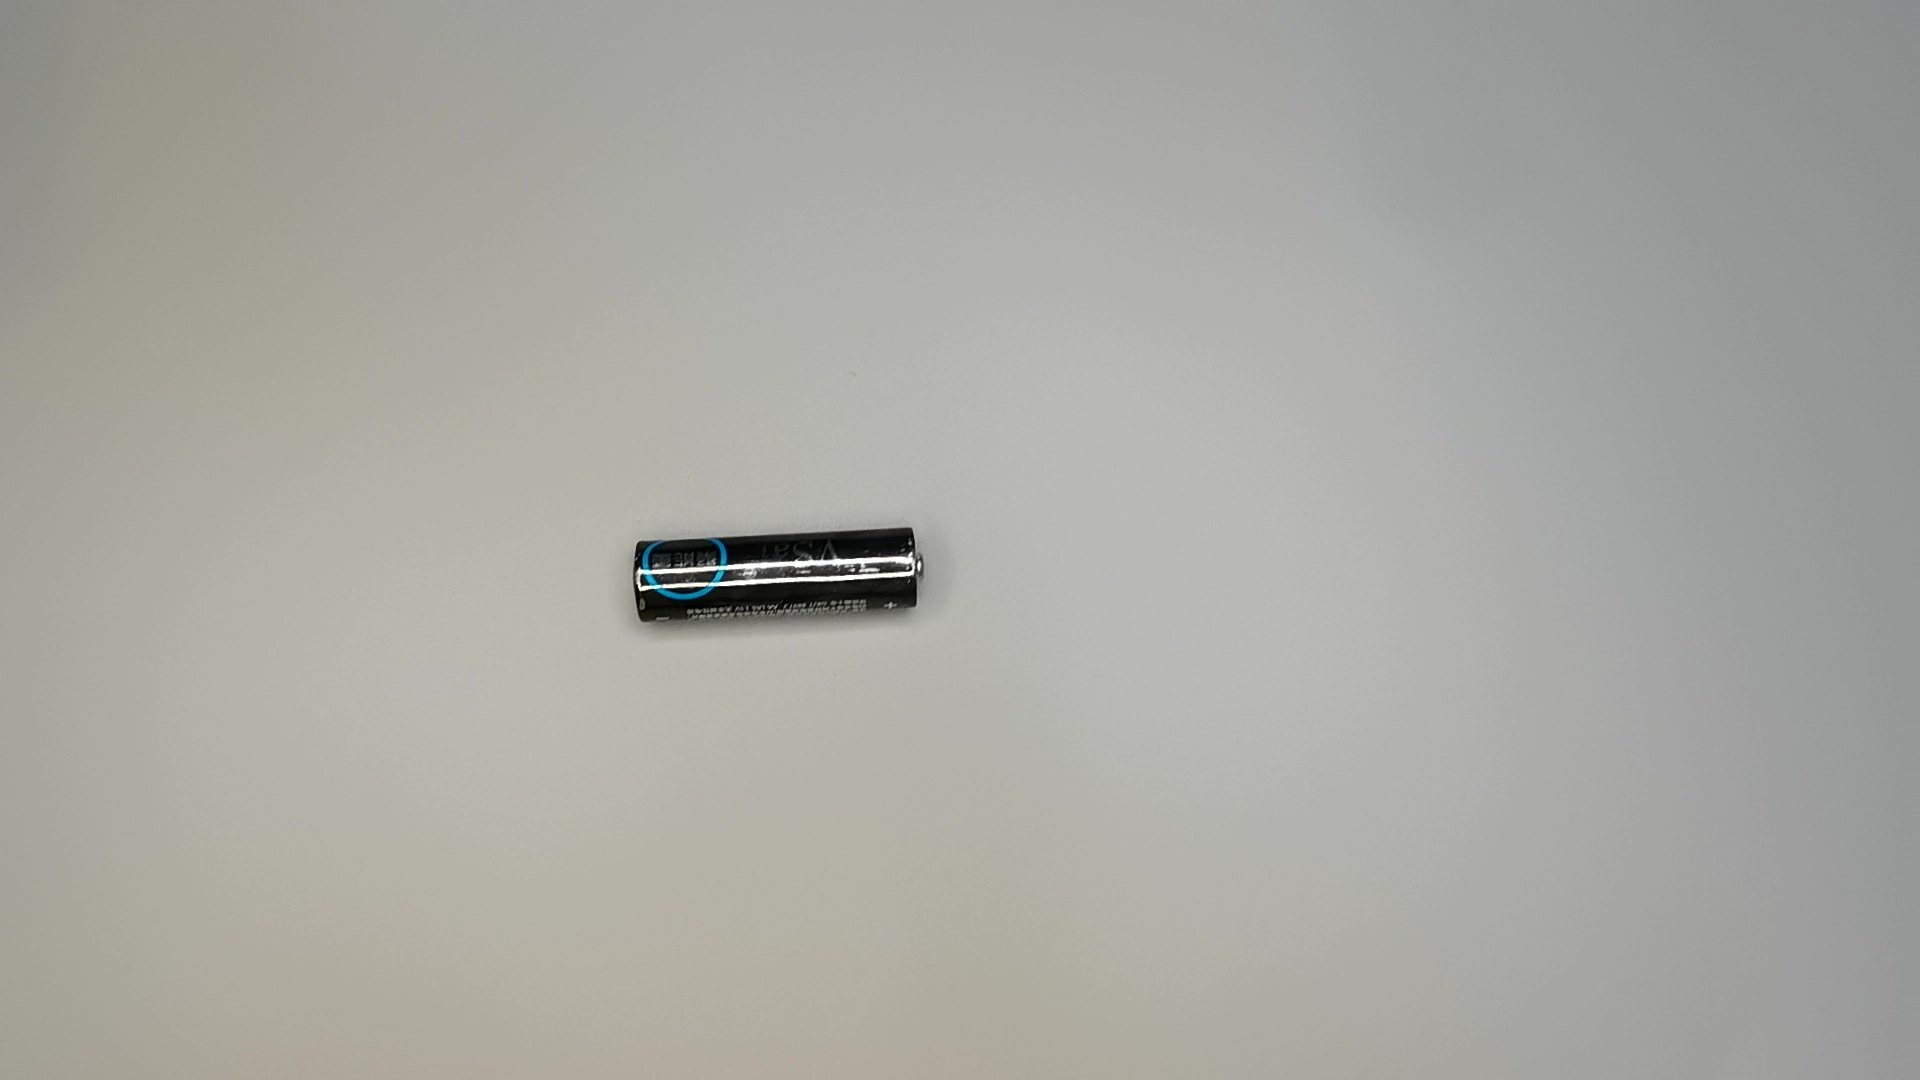battery: (618, 524, 928, 640)
